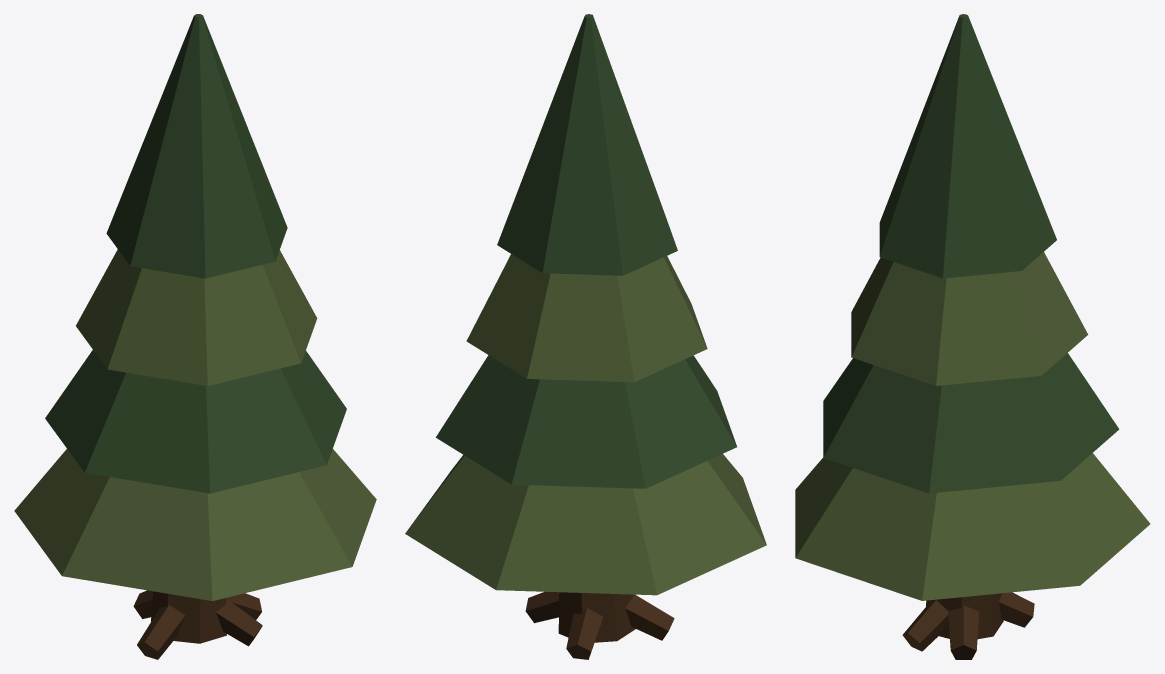
The model's file is SM_ENV_Tree_02_Pine.glb.
3 renders of one model, left to right at view 1: azimuth 30°, elevation 25°; view 2: azimuth 150°, elevation 25°; view 3: azimuth 270°, elevation 25°, orthographic.
Visible parts, largest first — view 1: SM_ENV_Tree_02_Pine; view 2: SM_ENV_Tree_02_Pine; view 3: SM_ENV_Tree_02_Pine.
Boxes of the visible parts, x1,y1,x2,y2 form: SM_ENV_Tree_02_Pine: (14,14,376,659); SM_ENV_Tree_02_Pine: (405,14,766,659); SM_ENV_Tree_02_Pine: (795,14,1150,659).
Bounding box in the file's own units: 1.99 × 3.73 × 1.94.
